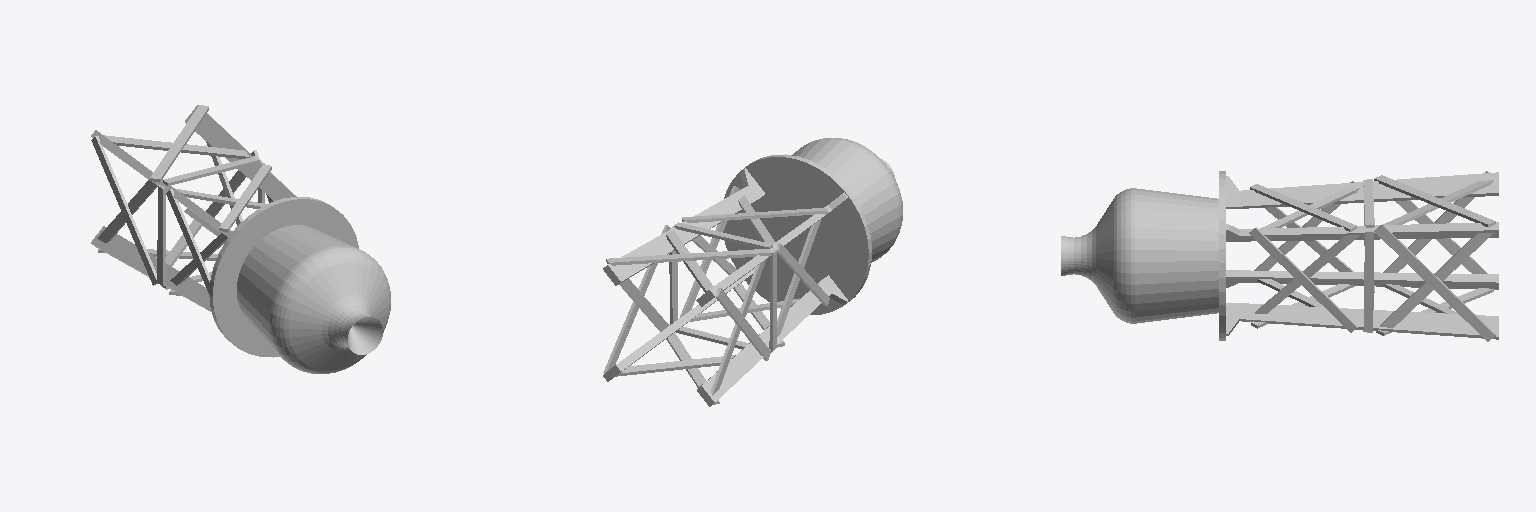
File: watertower.obj
3 views of the same model, side by side, from view 1: azimuth 30°, elevation 25°; view 2: azimuth 150°, elevation 25°; view 3: azimuth 270°, elevation 25° (orthographic).
Visible parts, largest first — view 1: rdmobj04, rdmobj00, rdmobj01, rdmobj03, rdmobj02; view 2: rdmobj01, rdmobj00, rdmobj03, rdmobj04, rdmobj02; view 3: rdmobj04, rdmobj03, rdmobj00, rdmobj02, rdmobj01.
Part boxes in pixels (x1,y1,x2,y2): rdmobj04: (237,225,390,373); rdmobj00: (91,105,273,295); rdmobj01: (209,197,358,357); rdmobj03: (91,105,296,311); rdmobj02: (157,156,264,289); rdmobj01: (723,154,871,314); rdmobj00: (603,186,829,404); rdmobj03: (603,168,847,406); rdmobj04: (792,138,902,262); rdmobj02: (669,222,776,352); rdmobj04: (1061,188,1218,323); rdmobj03: (1226,172,1498,339); rdmobj00: (1249,171,1495,341); rdmobj02: (1363,179,1374,332); rdmobj01: (1219,171,1225,340).
Size of the model in its own units: 350 by 350 by 898.